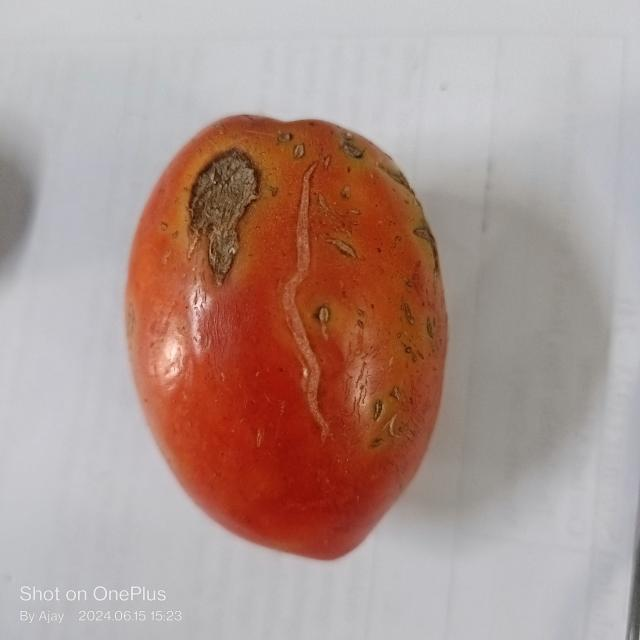tomato_cracking: (275, 152, 336, 437), (185, 145, 259, 283)
